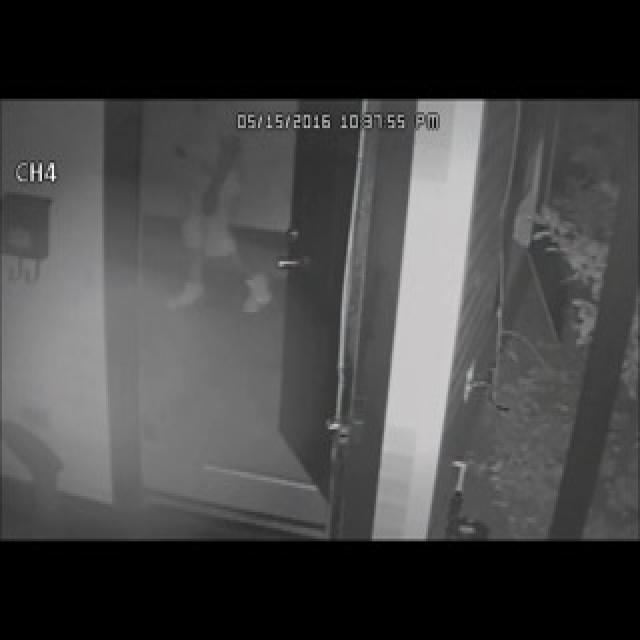thief: (166, 101, 264, 271)
